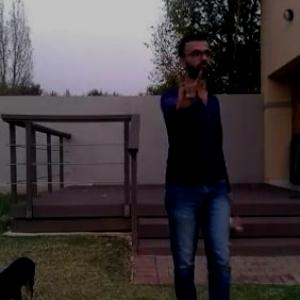takeoff-hand: (170, 67, 206, 111)
